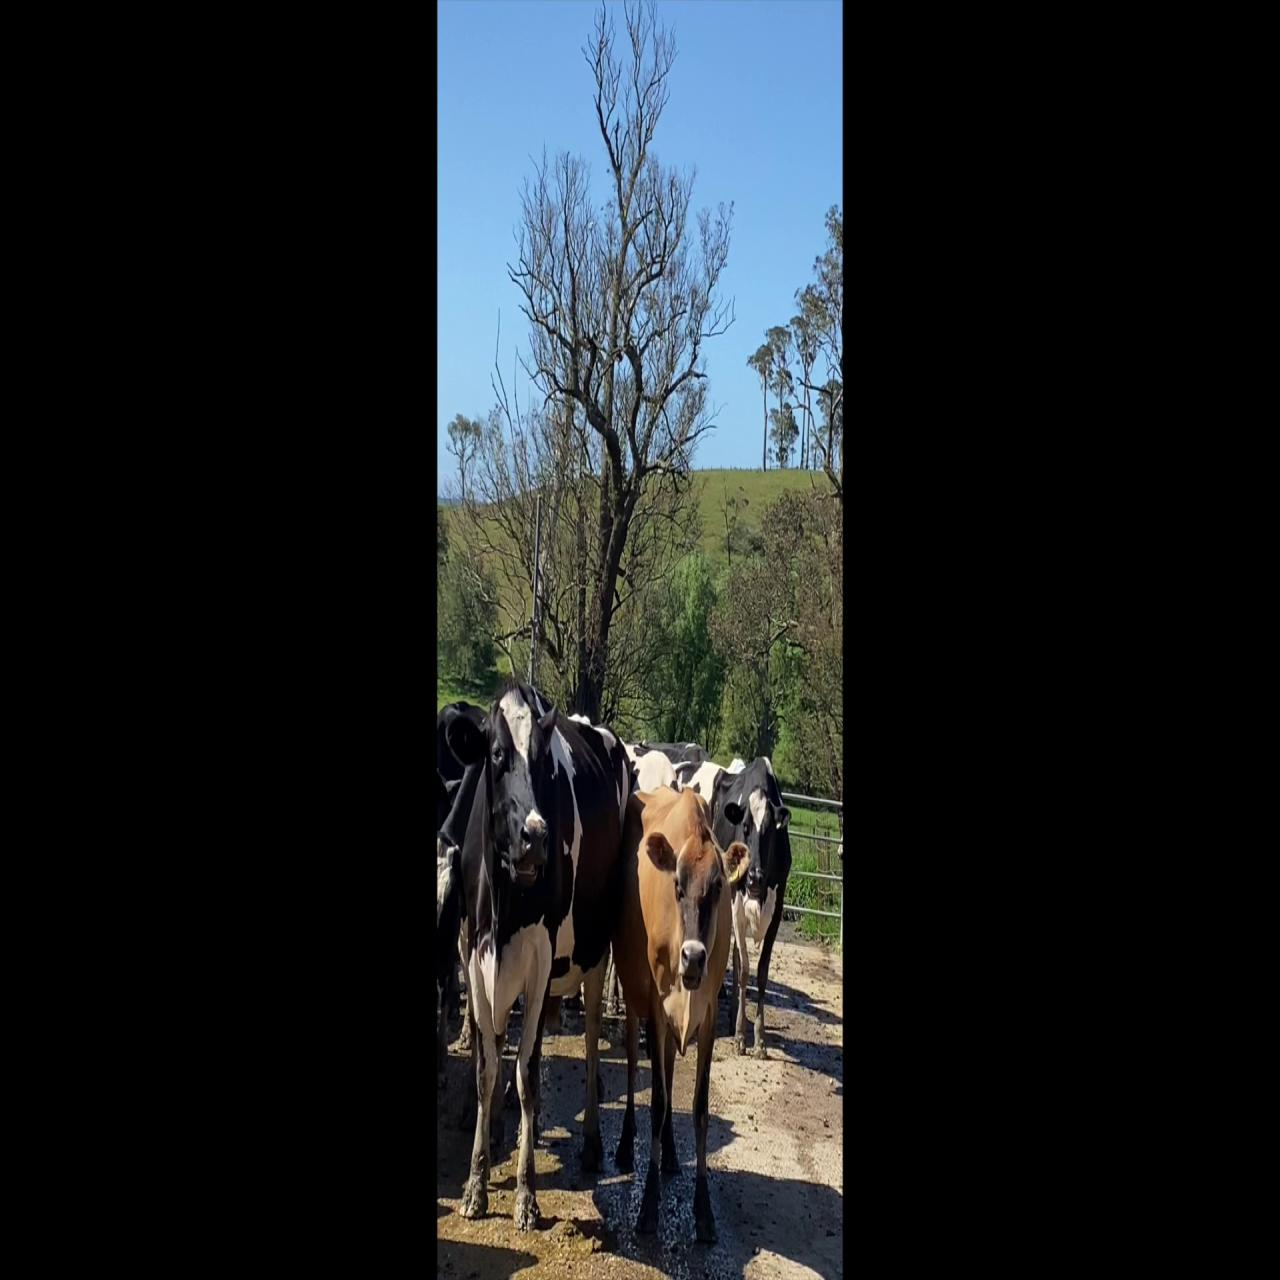Face: (485, 685, 551, 874), (675, 839, 720, 983), (740, 776, 776, 892)
